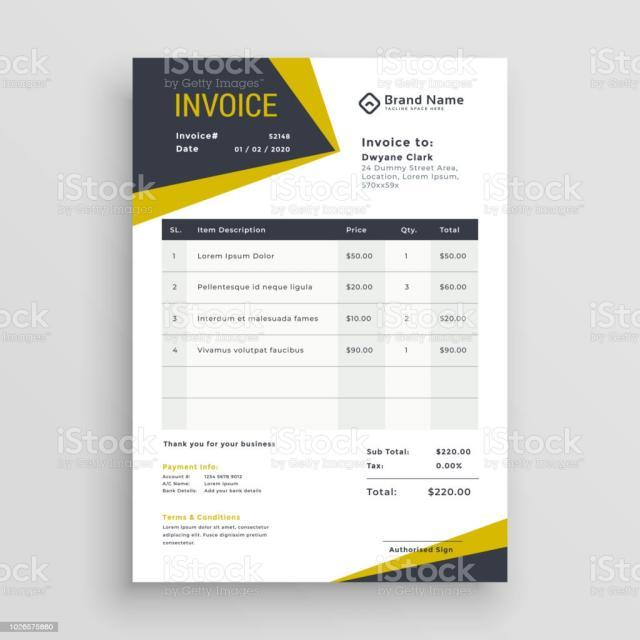customer_address: (360, 164, 465, 192)
customer_name: (361, 148, 445, 163)
invoice_date: (0, 560, 55, 584), (228, 141, 297, 156)
invoice_number: (261, 129, 293, 140)
invoice_subtotal: (433, 445, 477, 457)
invoice_total: (424, 484, 477, 500)
item_description: (192, 241, 322, 365)
item_quantity: (393, 244, 420, 357)
item_total_price: (433, 245, 470, 366)
item_unit_price: (341, 244, 378, 361)
supplier_name: (382, 92, 467, 113)
tax_rate: (430, 460, 468, 475)
